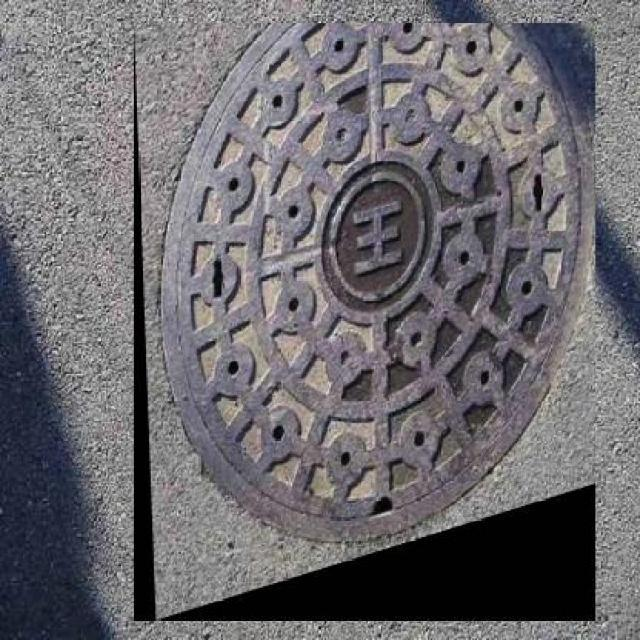Manhole: (134, 23, 596, 620)
